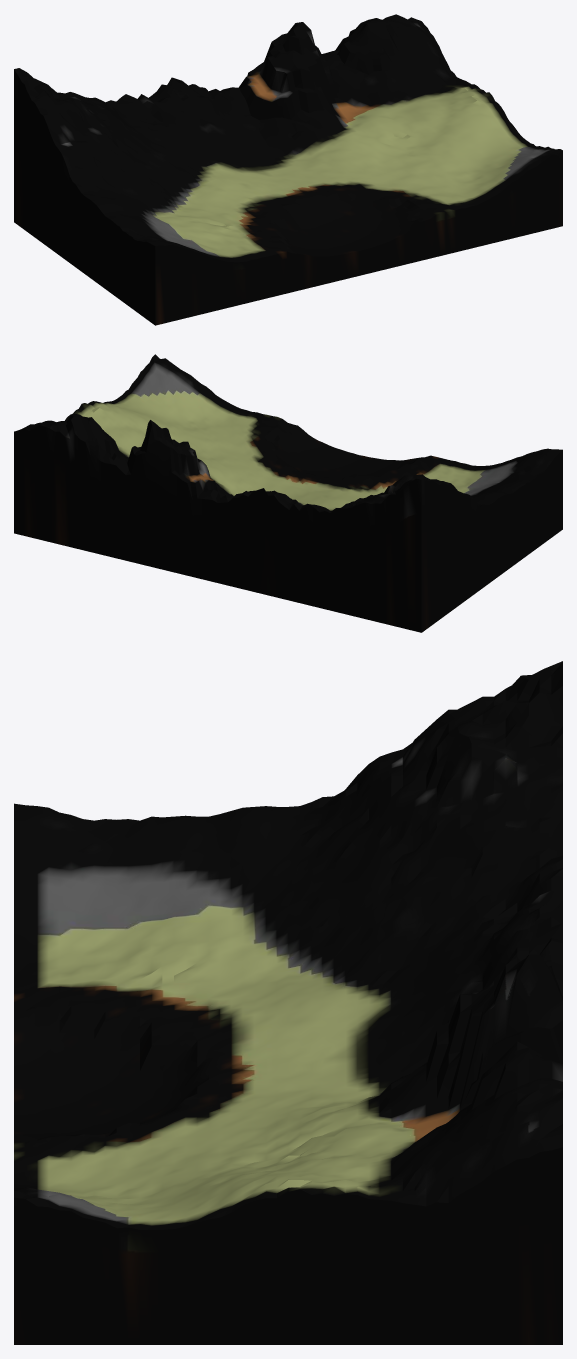
File: terrain.glb
The picture shows the model from 3 angles, top to bottom: view 1: azimuth 30°, elevation 25°; view 2: azimuth 150°, elevation 25°; view 3: azimuth 270°, elevation 25°; orthographic projection. The views are drawn at different scales.
Parts seen in each view (by area): view 1: Terrain; view 2: Terrain; view 3: Terrain.
Boxes of the visible parts, bbox=[...] form: Terrain: bbox=[14, 14, 562, 325]; Terrain: bbox=[14, 354, 562, 632]; Terrain: bbox=[14, 661, 562, 1344].
Size of the model in its own units: 40 by 14.35 by 24.01.
1 material, 1 textured.
